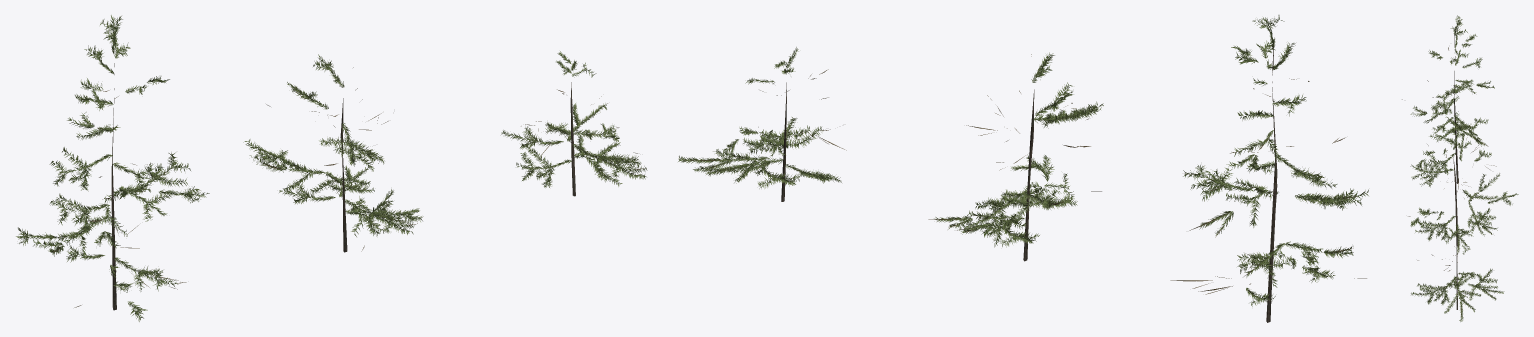
Rendered from fir_sapling.glb.
3 views of the same model, side by side, from view 1: azimuth 30°, elevation 25°; view 2: azimuth 150°, elevation 25°; view 3: azimuth 270°, elevation 25° (orthographic). The views are drawn at different scales.
Parts seen in each view (by area): view 1: fir_sapling_a, fir_sapling_b, fir_sapling_c; view 2: fir_sapling_a, fir_sapling_b, fir_sapling_c; view 3: fir_sapling_b, fir_sapling_a, fir_sapling_c.
Part boxes in pixels (x1,y1,x2,y2): fir_sapling_a: (16,15,209,321); fir_sapling_b: (243,54,423,252); fir_sapling_c: (501,51,647,196); fir_sapling_a: (1170,15,1368,322); fir_sapling_b: (928,52,1103,261); fir_sapling_c: (678,47,846,201); fir_sapling_b: (1408,126,1518,254); fir_sapling_a: (1402,15,1496,191); fir_sapling_c: (1411,228,1504,321).
Bounding box in the file's own units: 2.67 × 1.22 × 0.8044.
2 materials, 2 textured.
